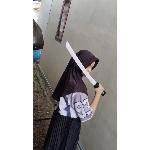Pedang: (63, 38, 109, 100)
